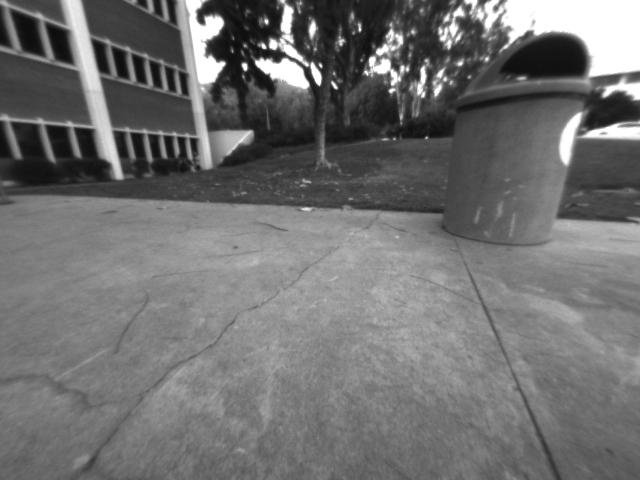trashcan: (438, 22, 603, 266)
